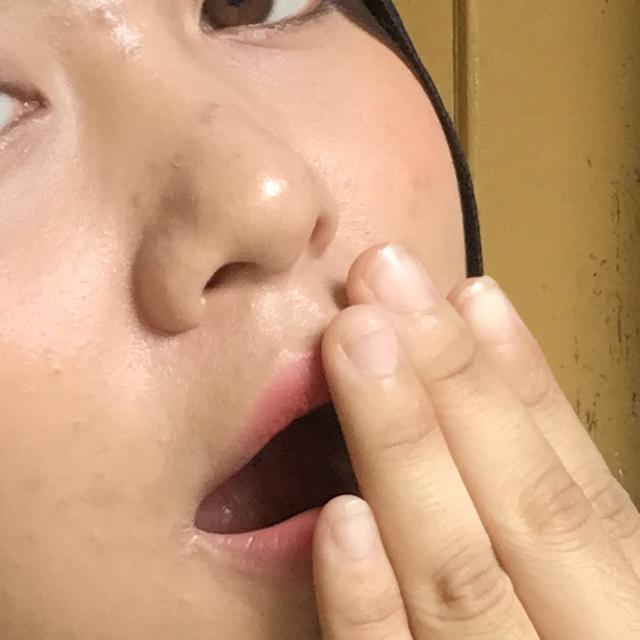ngantuk: (90, 146, 640, 640)
